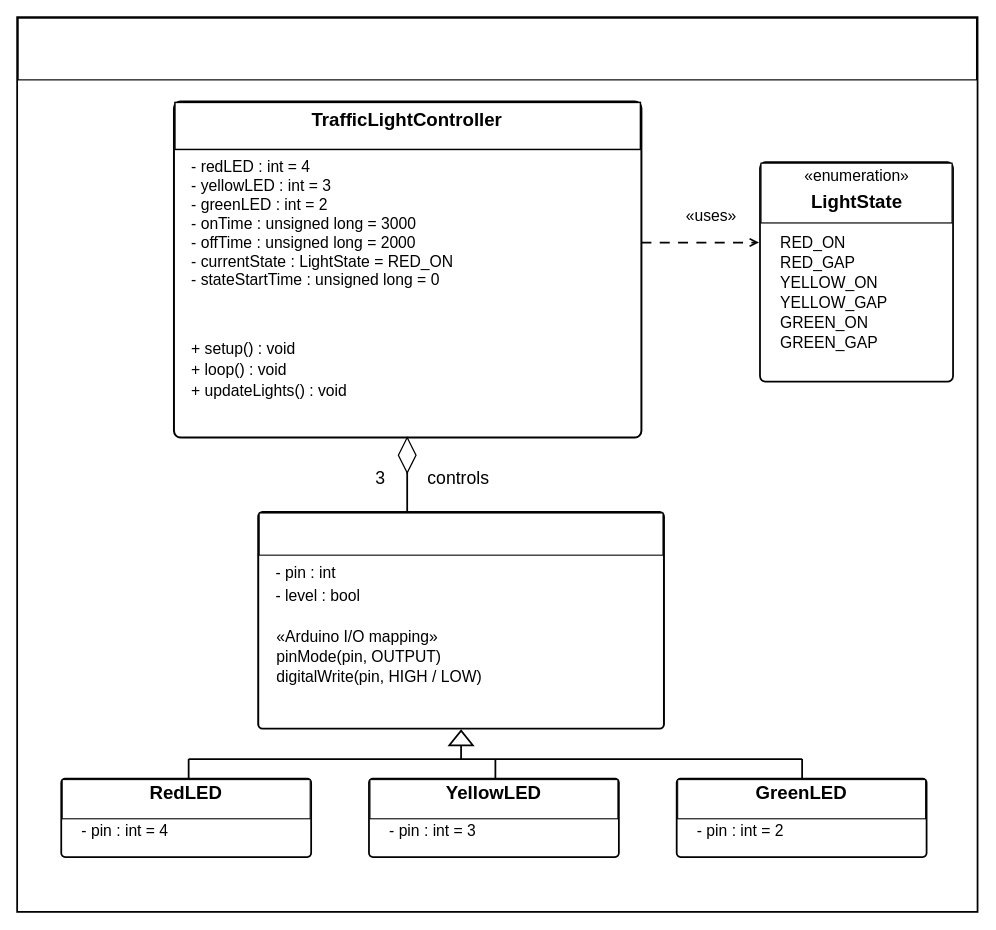
This 996x930 diagram has some shape labels left out. The shapes that lost their labels are listed below. From the top down, each one's box as (x1, y1, x2, y2) in pixels, then its label:
(17, 17, 977, 80): UML Class Diagram
(258, 512, 663, 555): LED « hardware »
